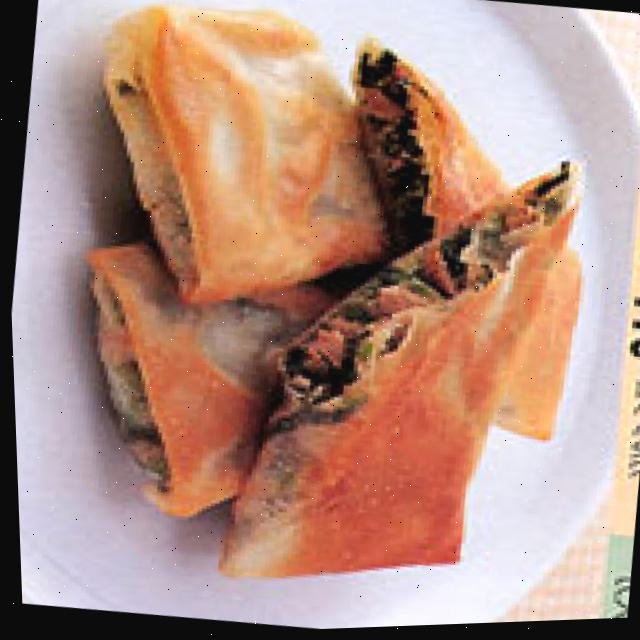鸡蛋料理: (19, 0, 633, 627)
